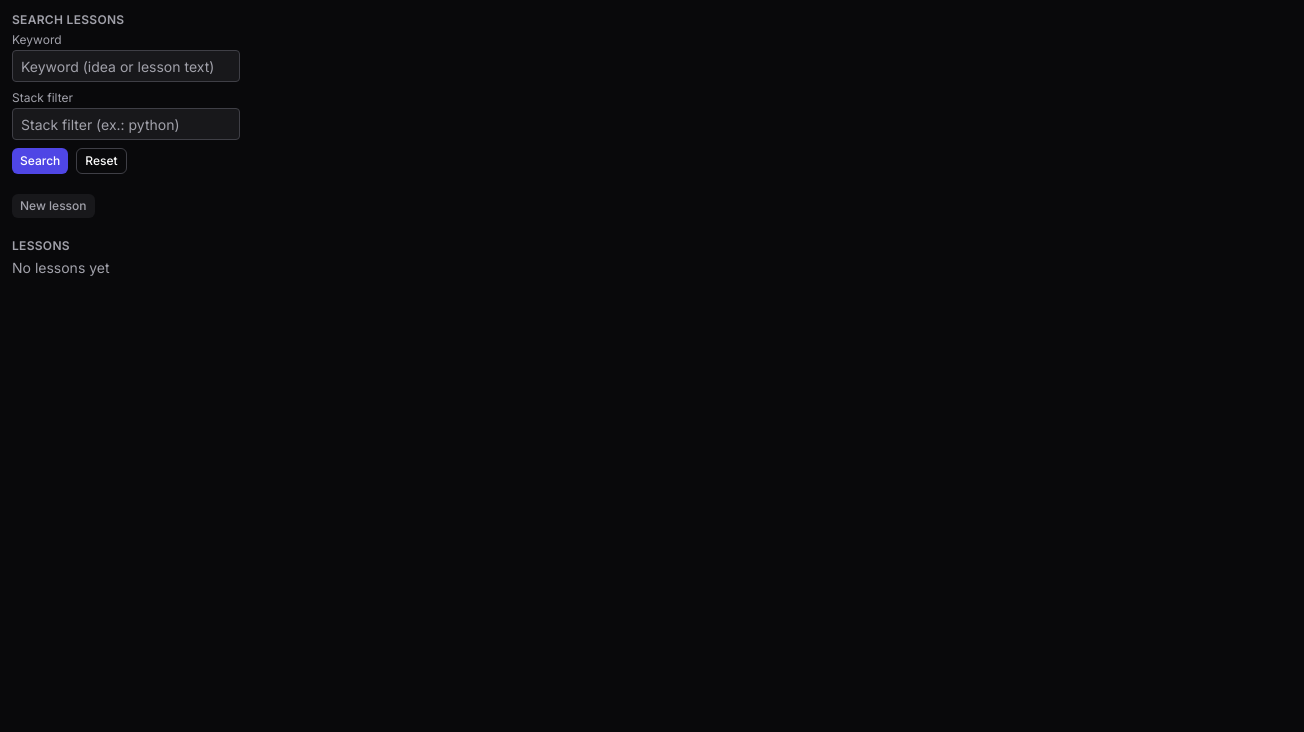
Test: MemoryPanel (lições aprendidas) › creates a lesson and falls back run_id to manual when empty
Expected: the text "No lessons yet" is shown, [12, 259, 110, 276]
Click the button "New lesson" at (53, 206), box [12, 194, 94, 218]
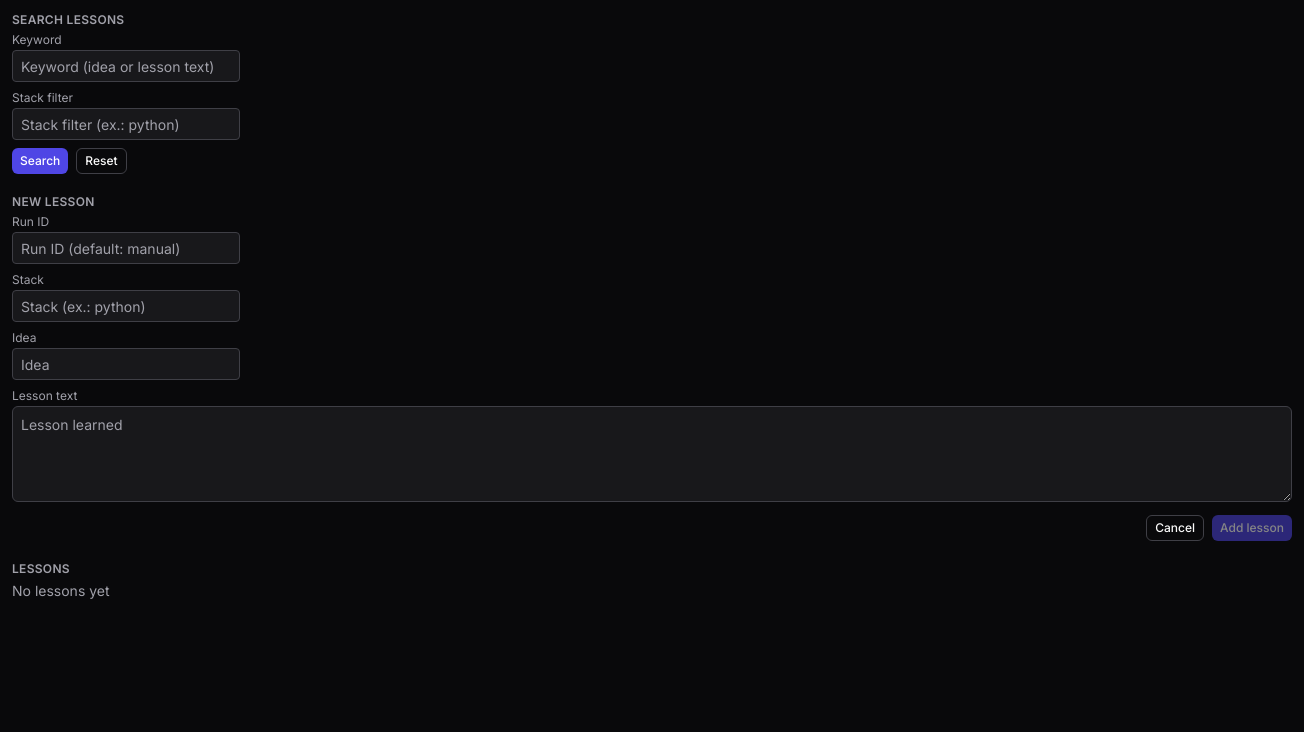
Type "python" into the field labelled "Stack" at (126, 306), box [12, 290, 240, 322]
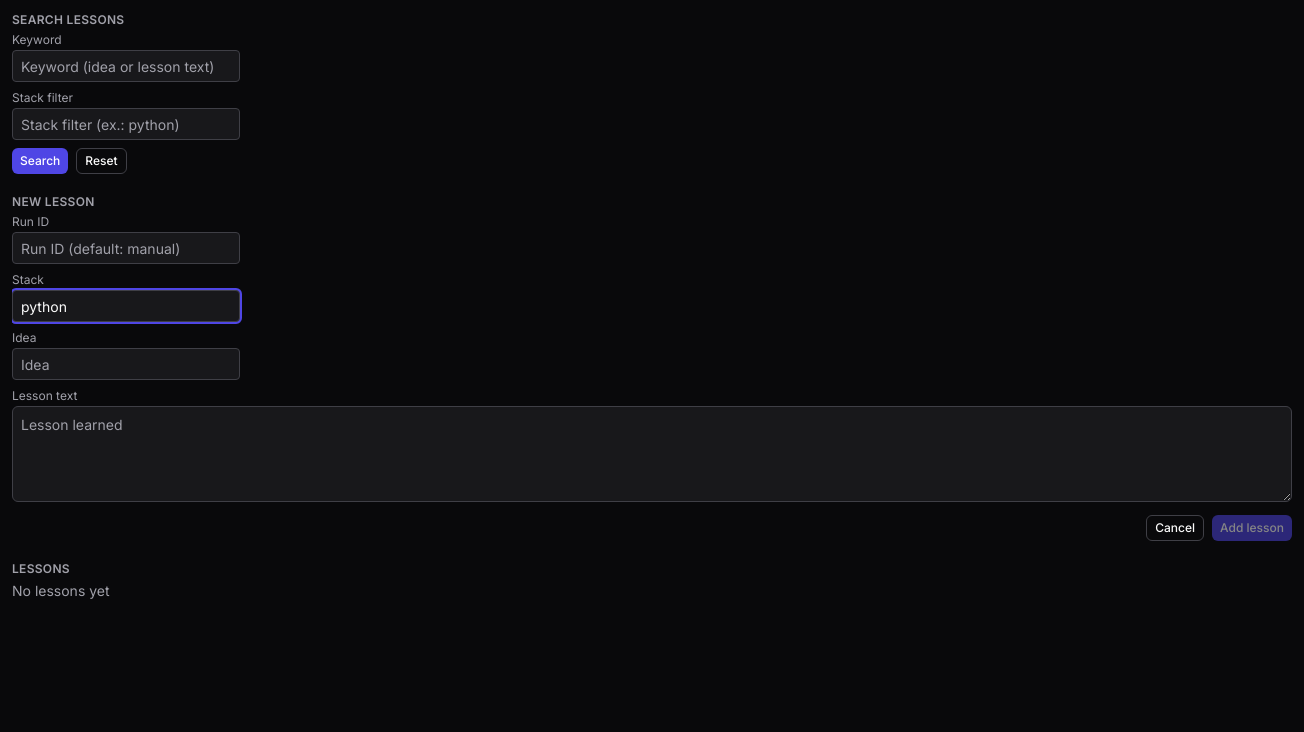
Type "API REST" into the field labelled "Idea" at (126, 364), box [12, 348, 240, 380]
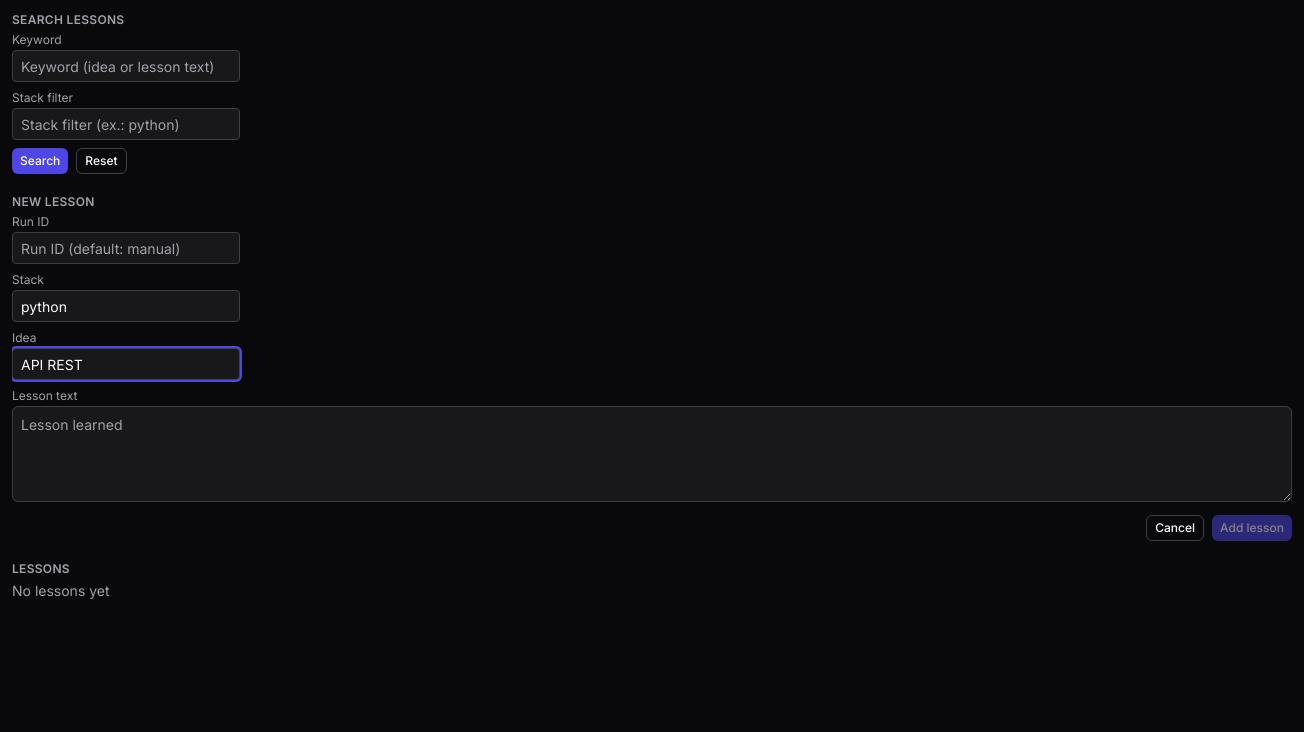
Type "Valide com Pydantic v2." into the text box labelled "Lesson text" at (652, 454), box [12, 406, 1292, 502]
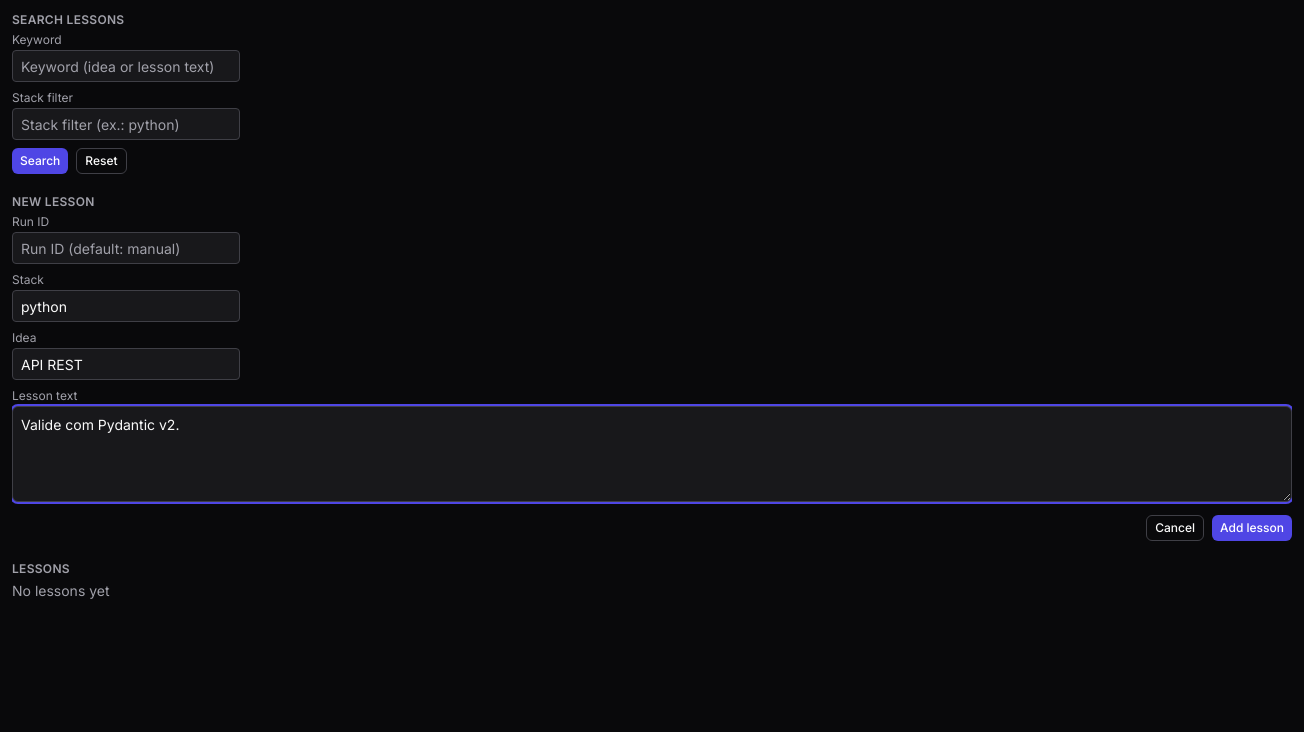
Click the button "Add lesson" at (1252, 528), box [1212, 515, 1292, 541]
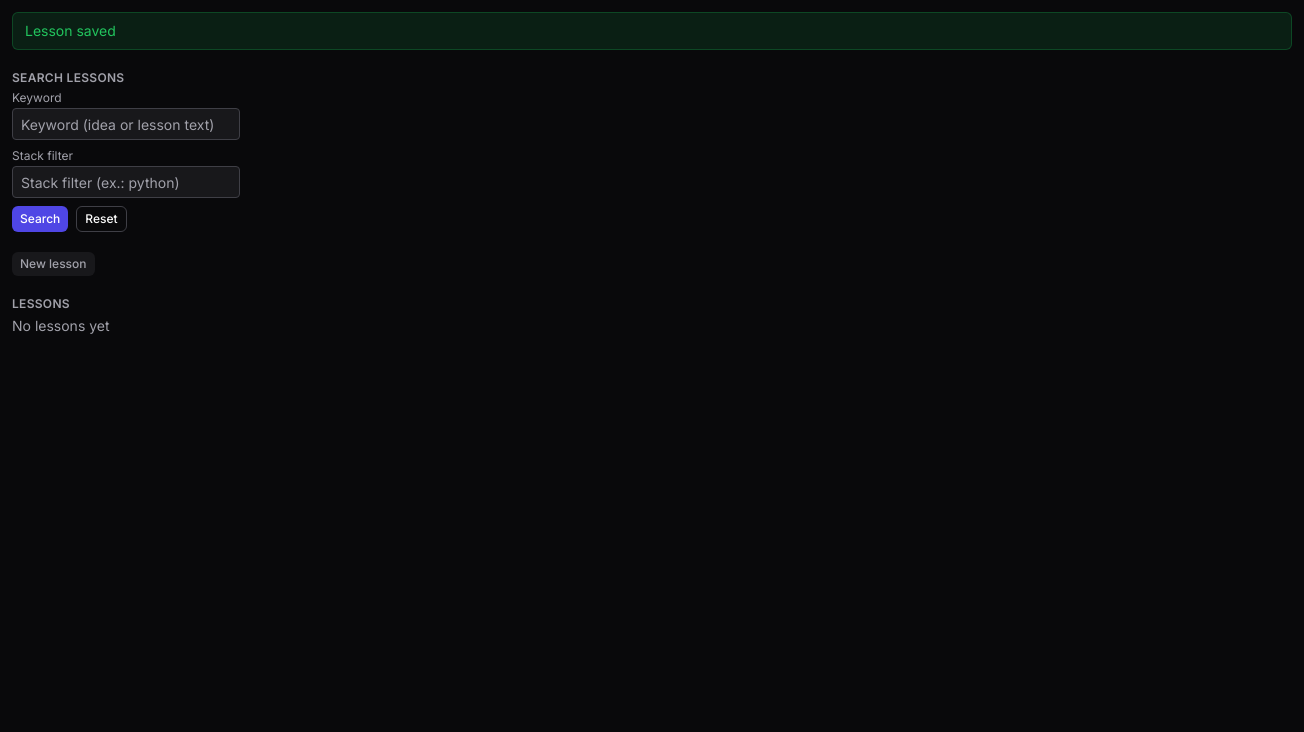
Now the message reads "Lesson saved", box [25, 22, 116, 39]
